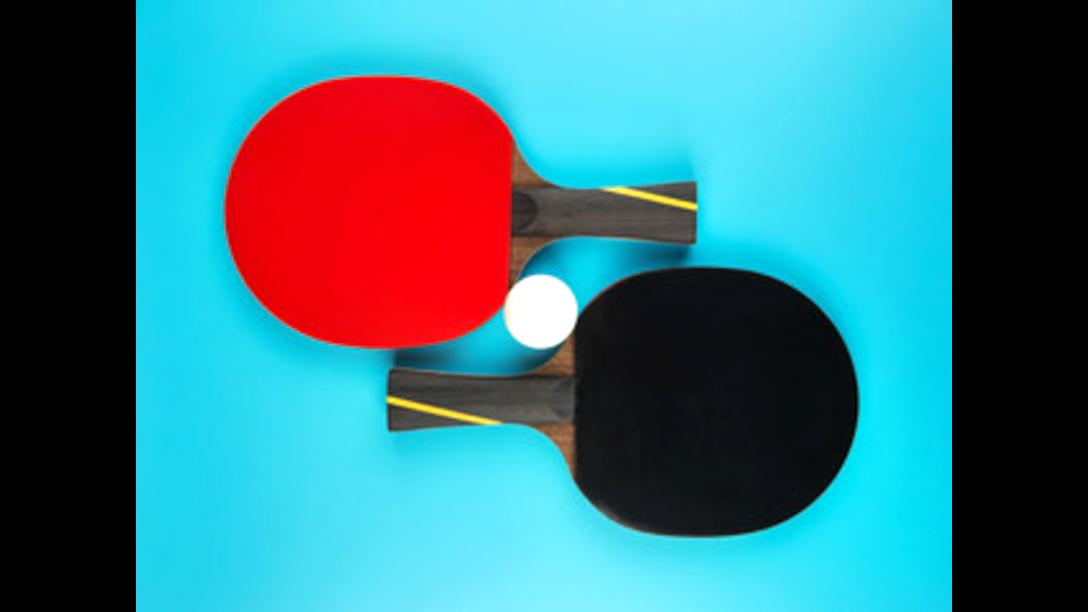Table-Tennis-Ball: (505, 276, 575, 346)
